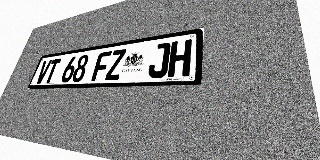6: (60, 56, 79, 83)
8: (71, 54, 91, 82)
F: (91, 51, 112, 81)
H: (167, 39, 192, 77)
J: (147, 42, 171, 78)
T: (43, 58, 61, 83)
V: (35, 60, 52, 84)
Z: (105, 49, 126, 80)
